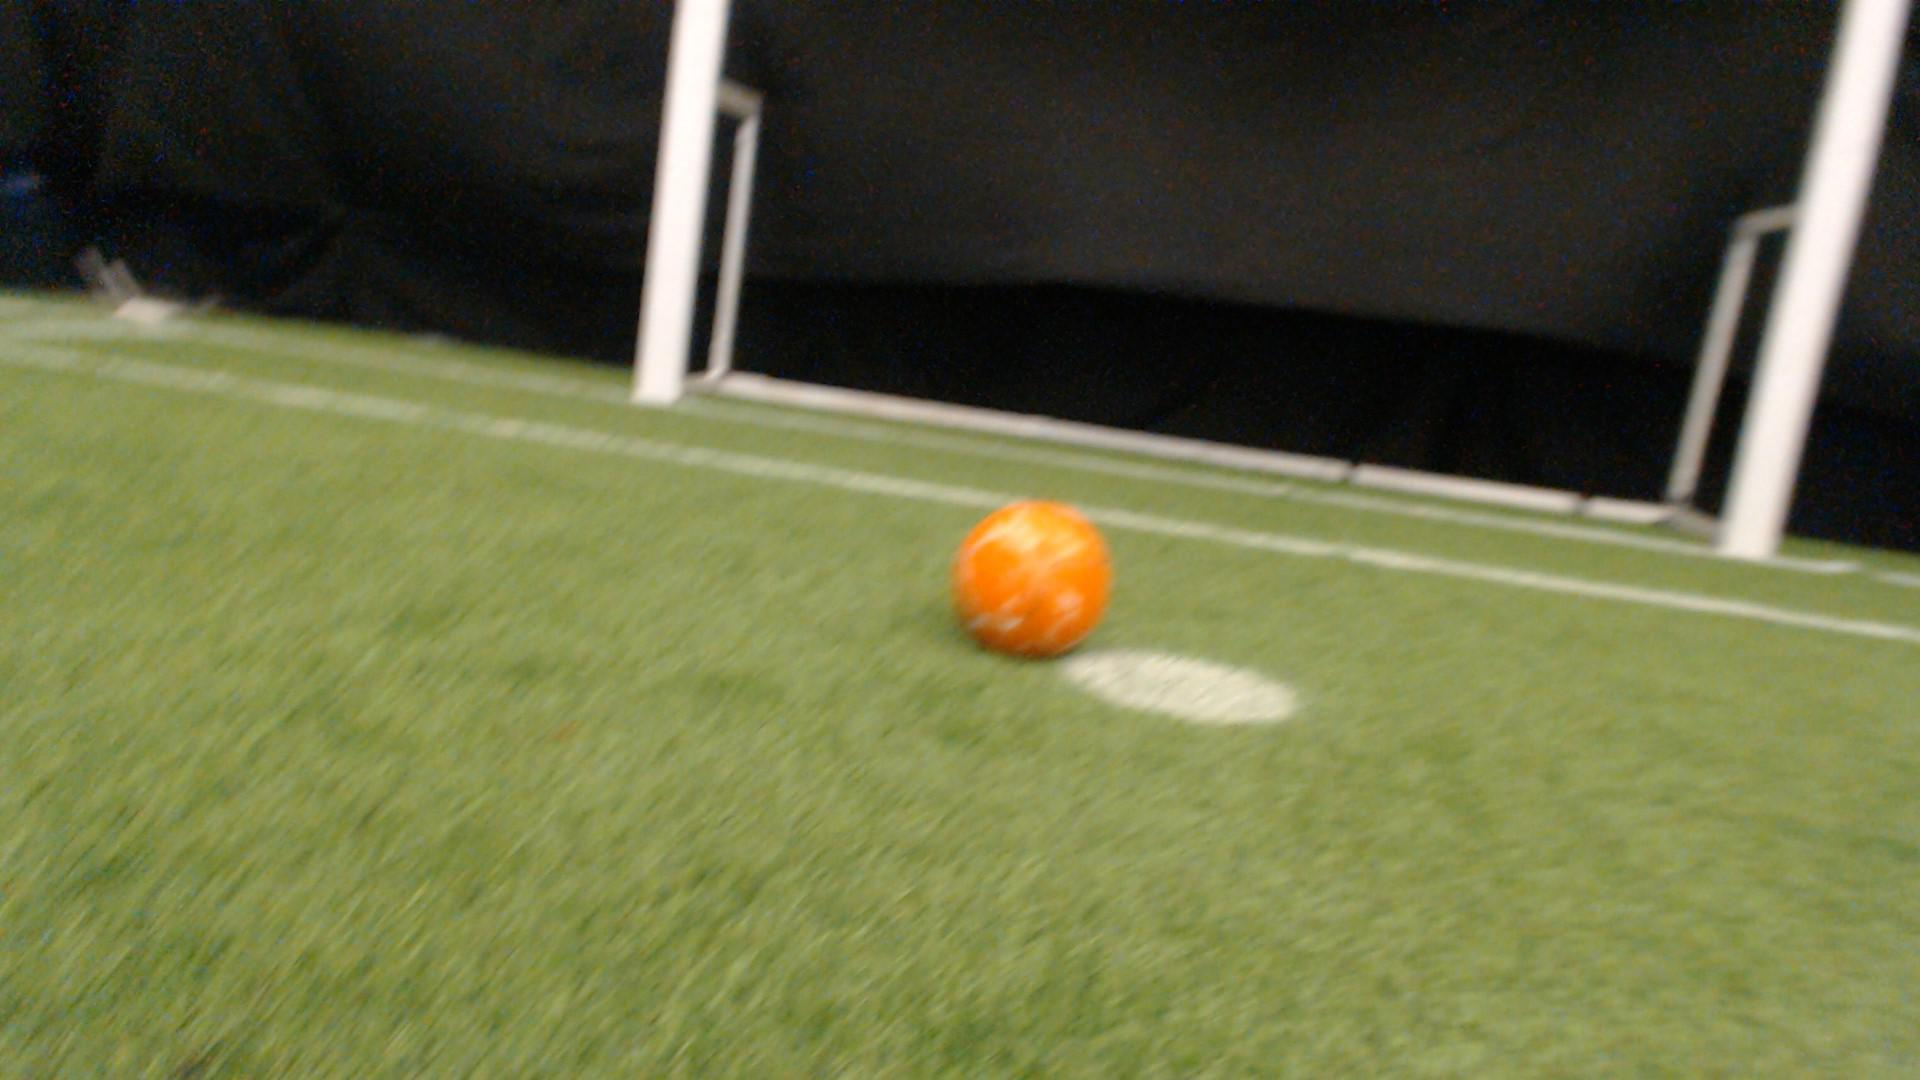bola: (944, 496, 1113, 673)
